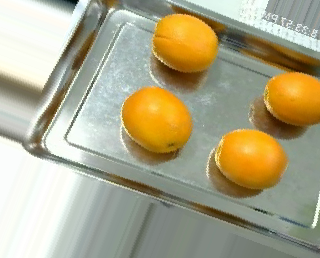Orange: (122, 85, 193, 152), (213, 127, 288, 189), (152, 14, 219, 73), (262, 71, 319, 126)
